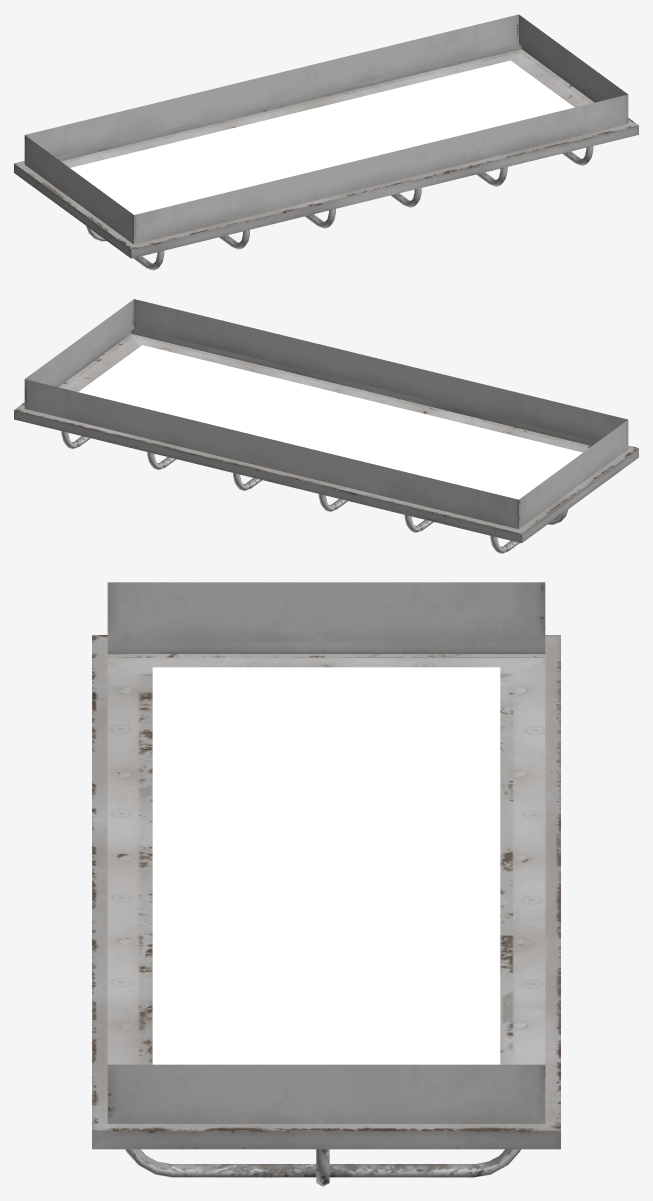
Rendered from SM_Light_01.fbx.
3 renders of one model, top to bottom at view 1: azimuth 30°, elevation 25°; view 2: azimuth 150°, elevation 25°; view 3: azimuth 270°, elevation 25°, orthographic. The views are drawn at different scales.
Parts seen in each view (by area): view 1: SM_Light_01_LOD0; view 2: SM_Light_01_LOD0; view 3: SM_Light_01_LOD0.
Part boxes in pixels (<box>): SM_Light_01_LOD0: <box>14,14,638,270</box>; SM_Light_01_LOD0: <box>14,299,638,553</box>; SM_Light_01_LOD0: <box>92,582,560,1186</box>.
Size of the model in its own units: 120 by 48 by 16.55.
Materials: 1 (1 with a texture image).
